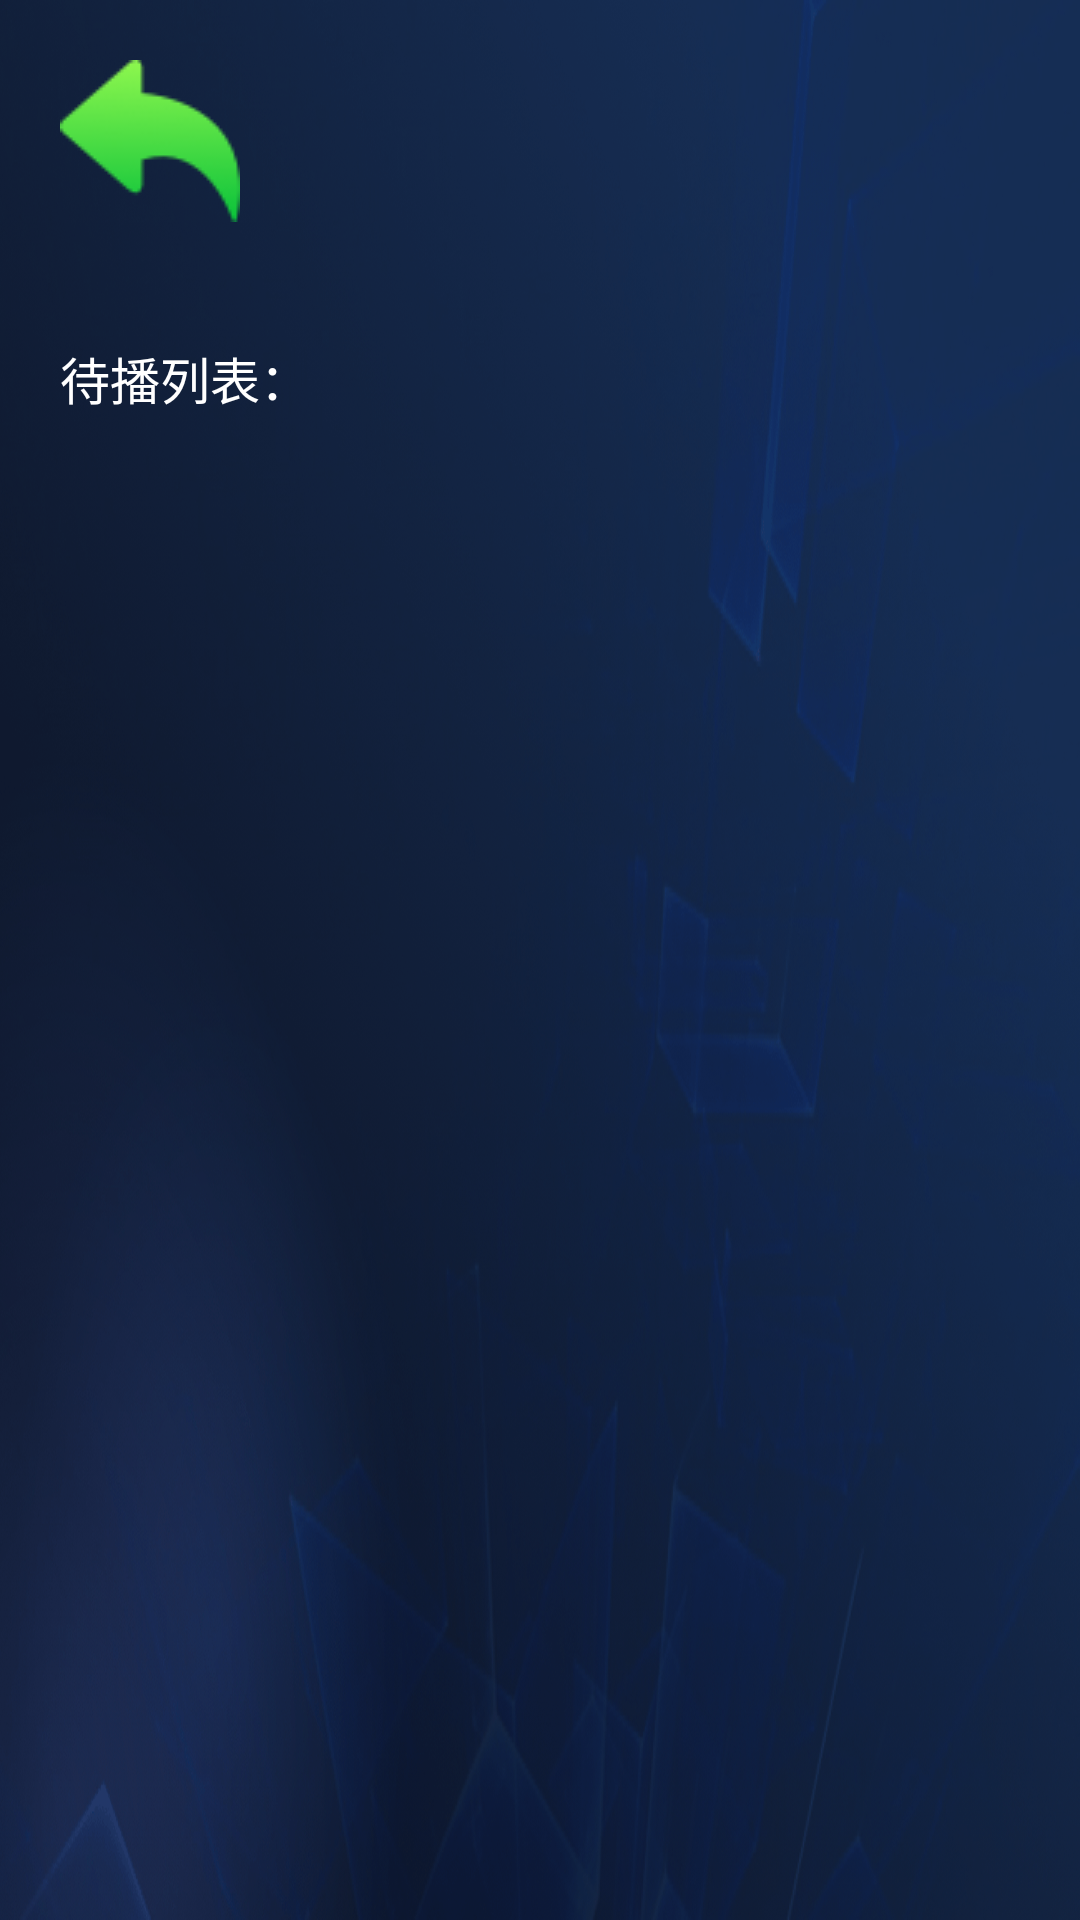

Icons on this 1080 x 1920 Android screen, each with the point to tap as (x,y):
ydgzncf fanhui: (150,141)
